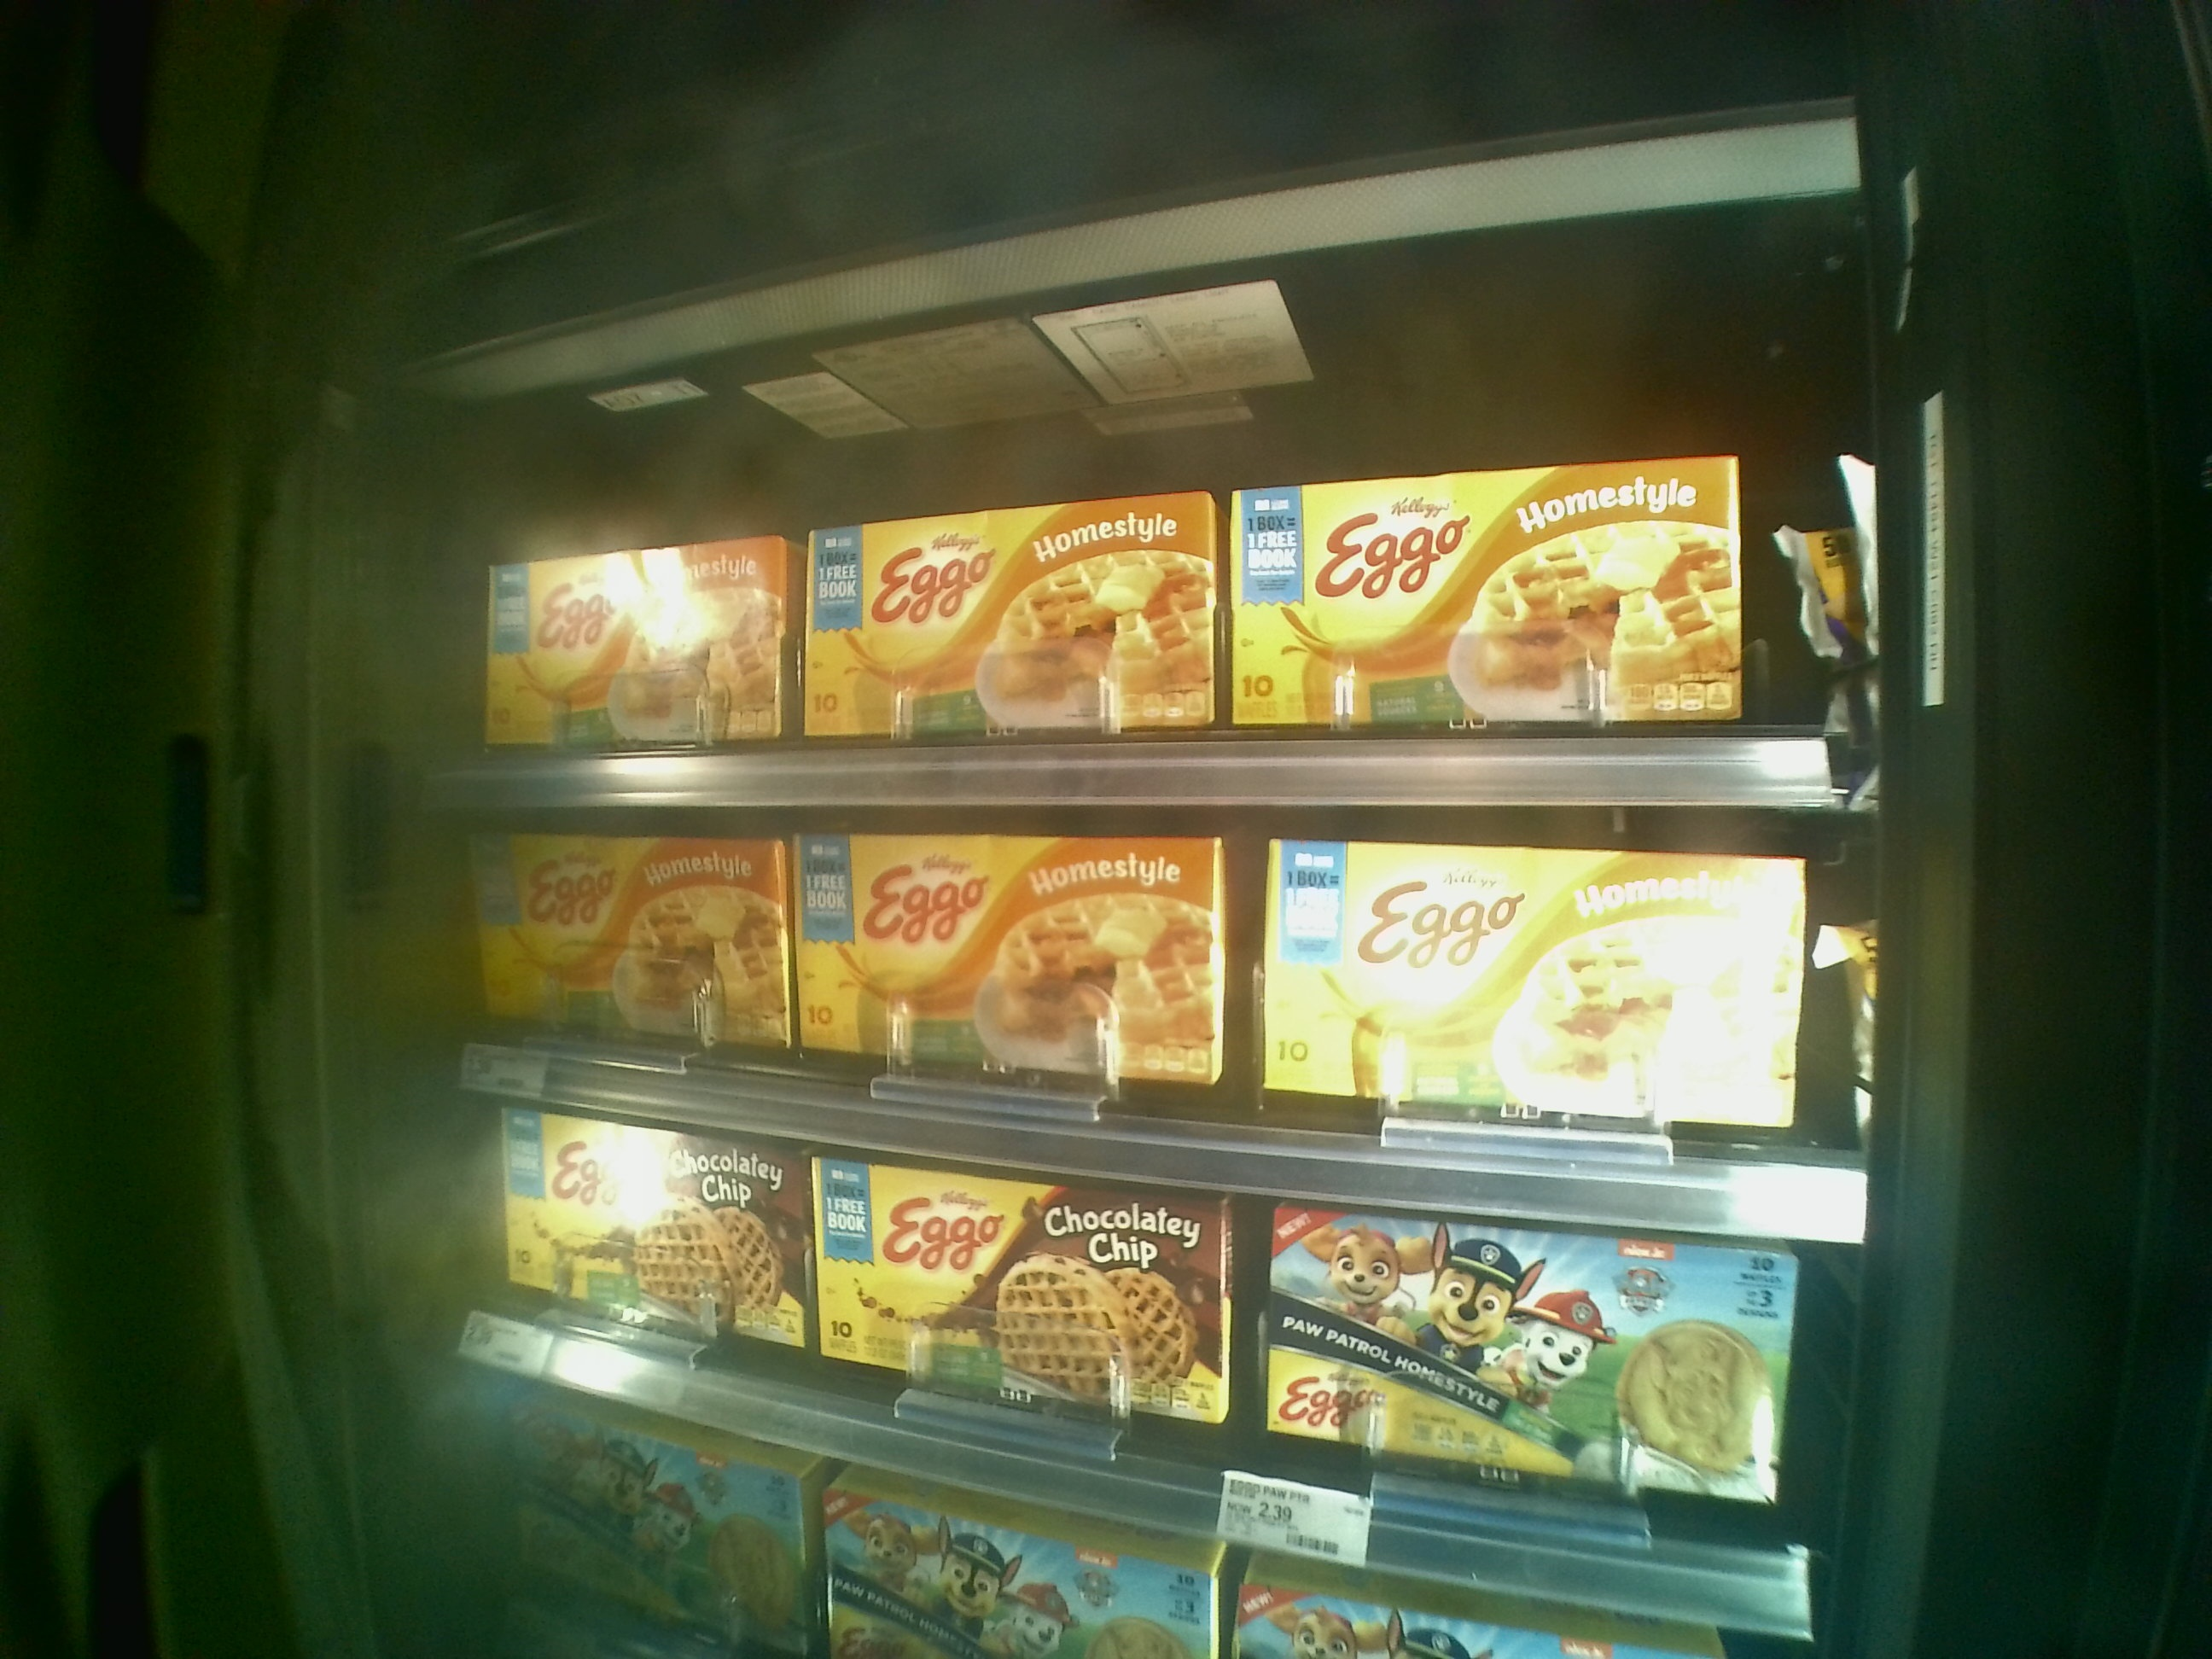shelf: (460, 317, 1832, 809), (441, 788, 1890, 1246)
